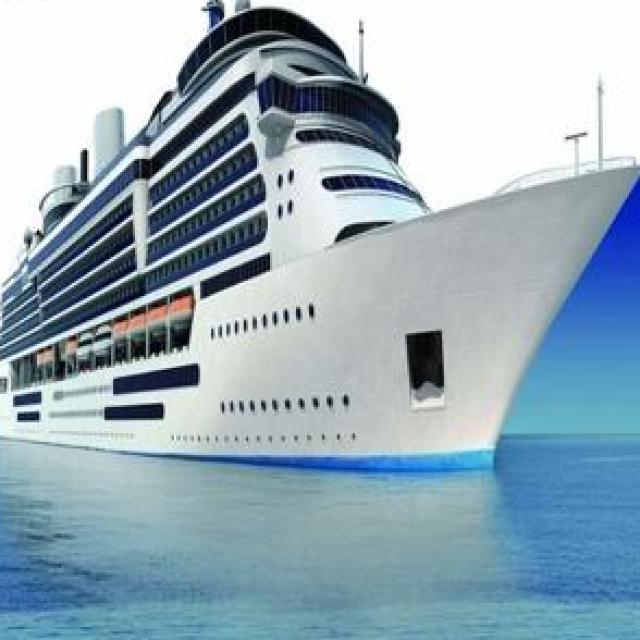passenger ship: (0, 0, 640, 466)
